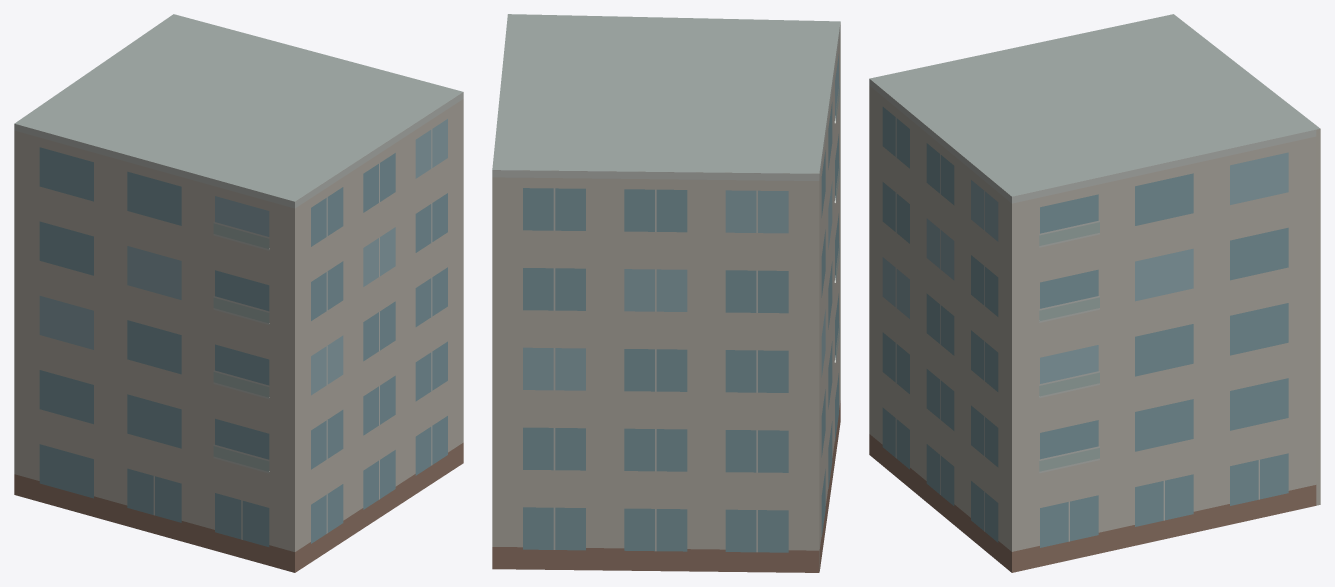
File: survey-upis-32841016.glb
3 views of the same model, side by side, from view 1: azimuth 30°, elevation 25°; view 2: azimuth 150°, elevation 25°; view 3: azimuth 270°, elevation 25° (orthographic). The views are drawn at different scales.
Visible parts, largest first — view 1: survey-upis-32841016.tmp; view 2: survey-upis-32841016.tmp; view 3: survey-upis-32841016.tmp.
Boxes of the visible parts, x1=… form: survey-upis-32841016.tmp: x1=14, y1=14, x2=463, y2=572; survey-upis-32841016.tmp: x1=492, y1=14, x2=840, y2=572; survey-upis-32841016.tmp: x1=869, y1=14, x2=1320, y2=572.
Bounding box in the file's own units: 13.87 × 13.3 × 14.47.
